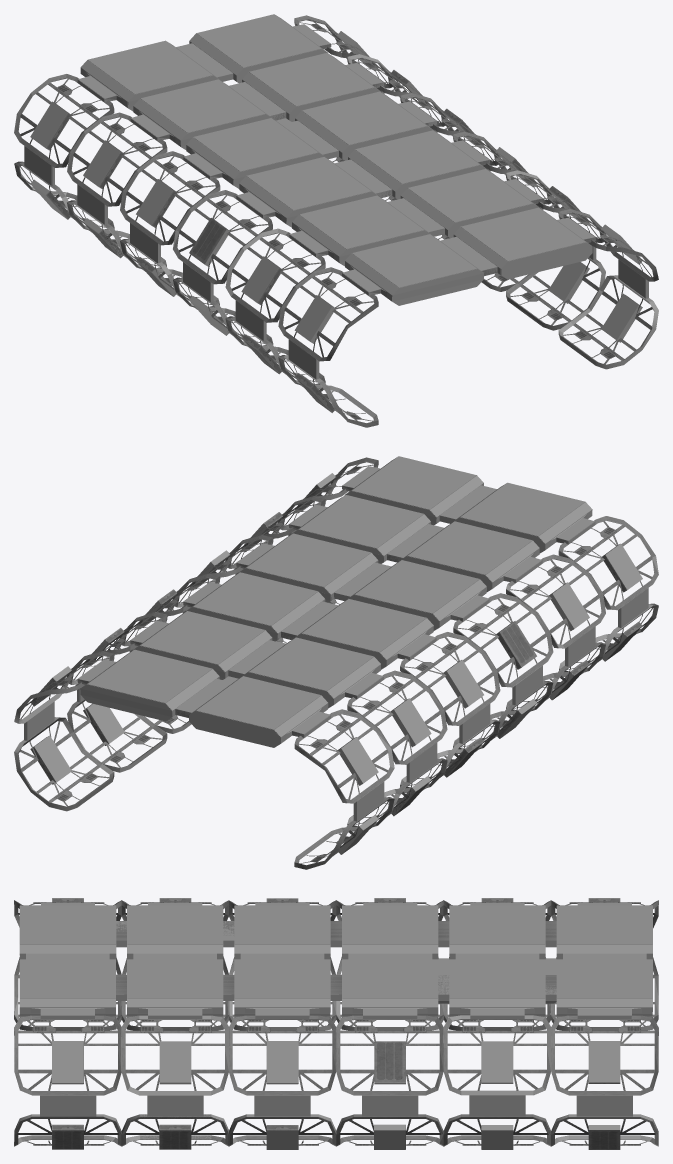
The model's file is Antares I.FBX.
3 renders of one model, top to bottom at view 1: azimuth 30°, elevation 25°; view 2: azimuth 150°, elevation 25°; view 3: azimuth 270°, elevation 25°, orthographic.
Parts seen in each view (by area): view 1: Effect, Box002, Object002; view 2: Effect, Box002, Object002; view 3: Effect, Box002, Object002.
Boxes of the visible parts, x1,y1,x2,y2 form: Effect: (14, 14, 658, 421); Box002: (14, 15, 658, 427); Object002: (19, 19, 652, 421); Effect: (14, 456, 658, 866); Box002: (14, 457, 658, 869); Object002: (20, 461, 652, 863); Effect: (14, 898, 658, 1149); Box002: (14, 898, 658, 1149); Object002: (17, 902, 655, 1145).
Size of the model in its own units: 126 by 47.84 by 208.
3 materials, 2 textured.
